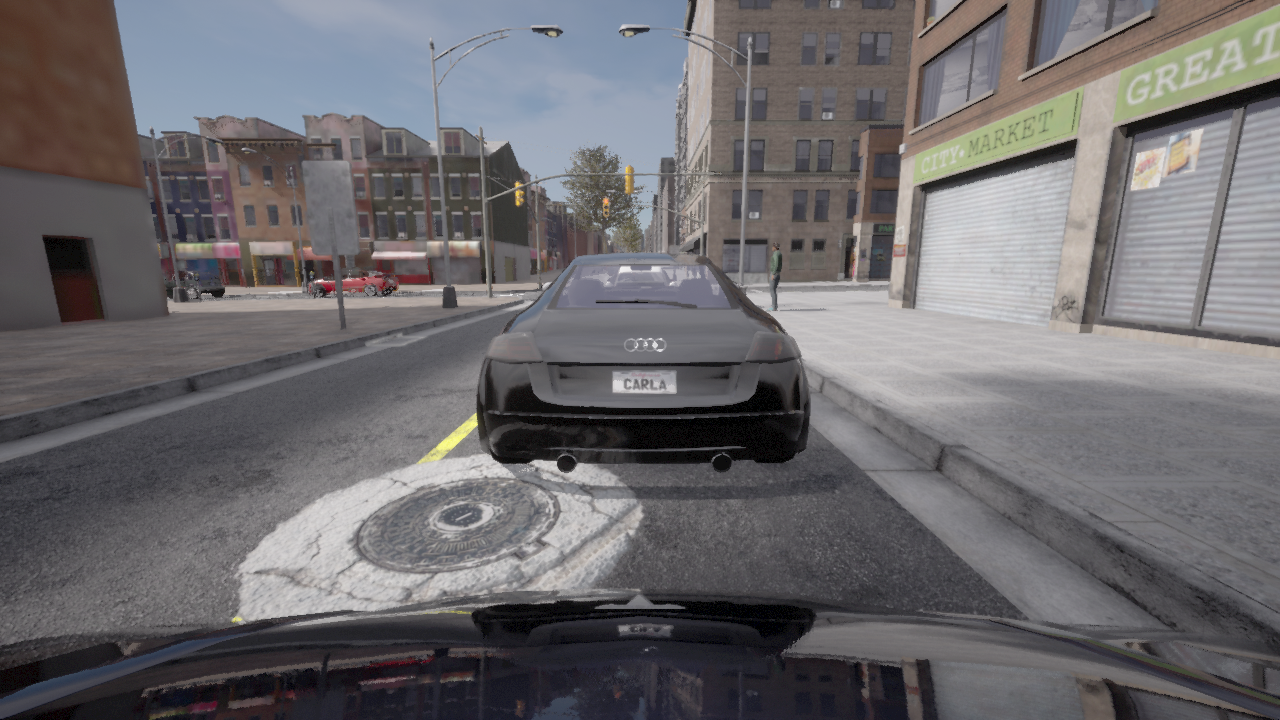cyclist: (0, 588, 1279, 719), (476, 253, 809, 473), (308, 269, 397, 297), (162, 270, 225, 299)
pedestrian: (766, 242, 782, 310)
